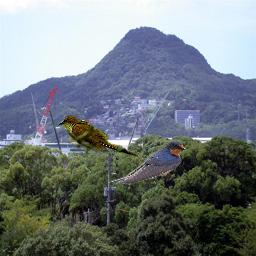Cuckoo: (58, 115, 140, 158)
Swallow: (108, 140, 187, 185)
